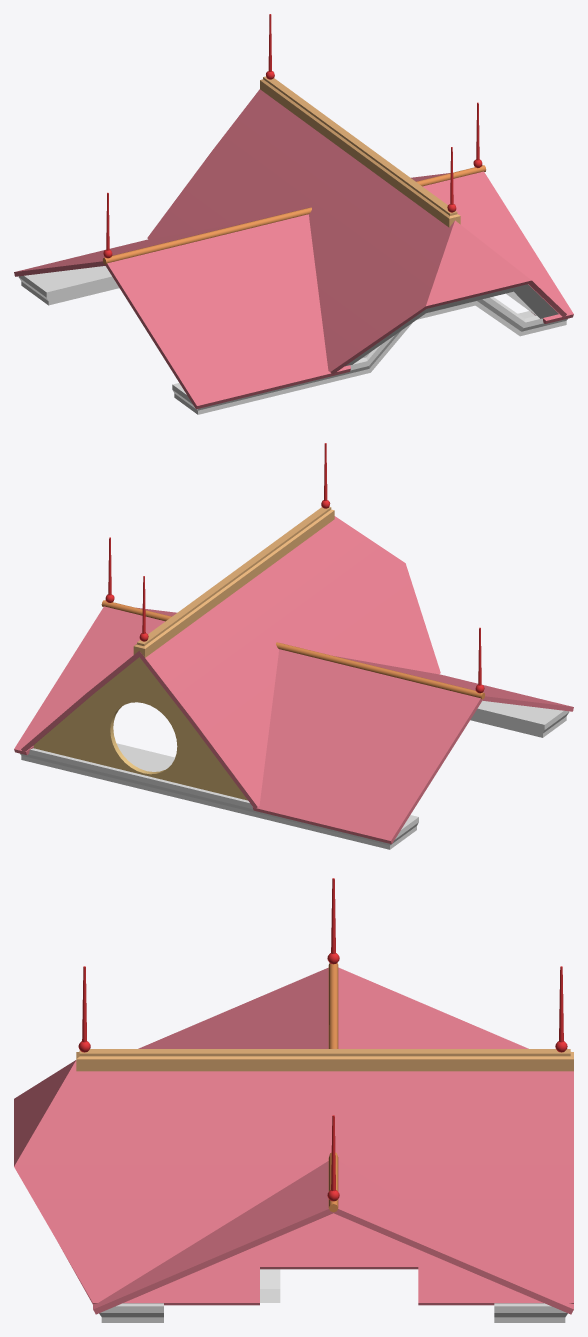
Rendered from SP_House06_Roof01.fbx.
3 renders of one model, top to bottom at view 1: azimuth 30°, elevation 25°; view 2: azimuth 150°, elevation 25°; view 3: azimuth 270°, elevation 25°, orthographic. The views are drawn at different scales.
Parts seen in each view (by area): view 1: SP_House06_Roof01; view 2: SP_House06_Roof01; view 3: SP_House06_Roof01.
Boxes of the visible parts, x1,y1,x2,y2 form: SP_House06_Roof01: (14,14,573,414); SP_House06_Roof01: (14,443,573,849); SP_House06_Roof01: (14,878,573,1322).
Size of the model in its own units: 9.09 by 4.84 by 8.82.
